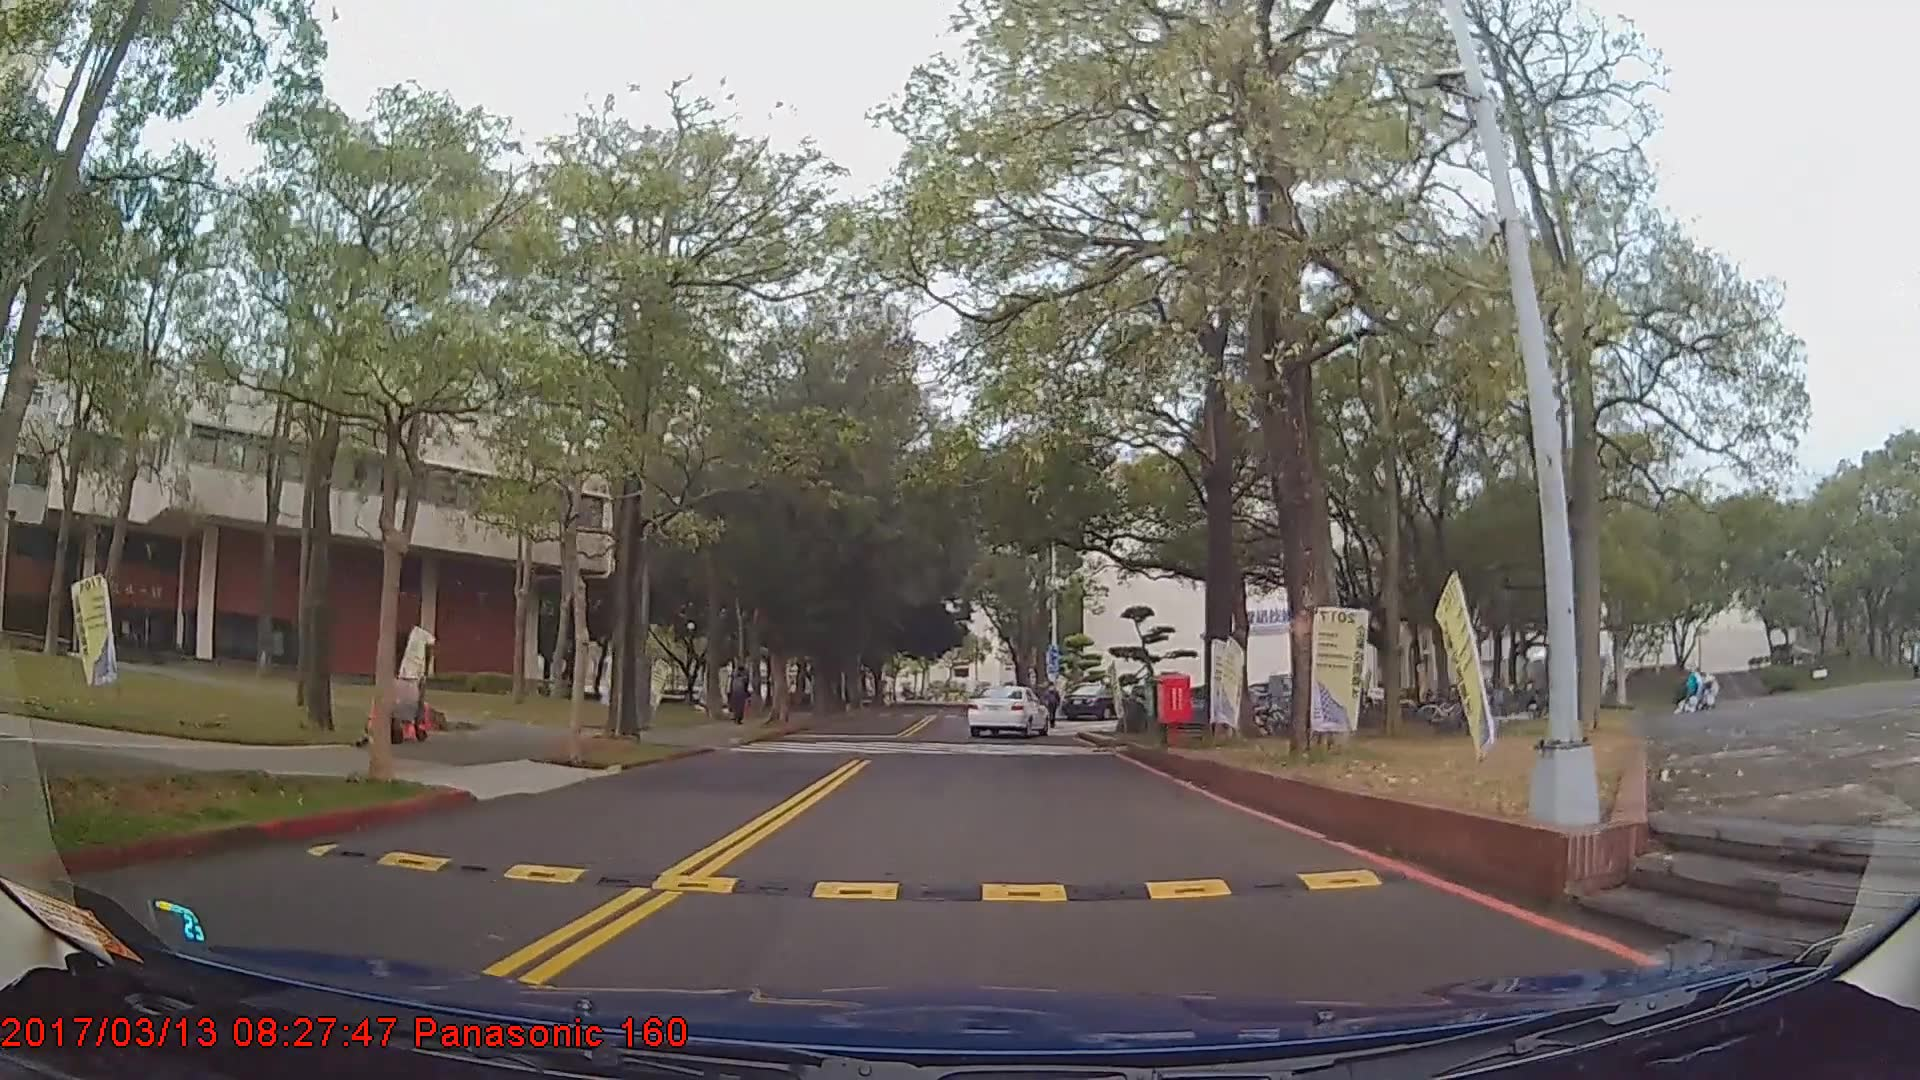pedestrian: (725, 660, 756, 730)
vehicle: (967, 684, 1049, 739), (1062, 683, 1129, 720)
